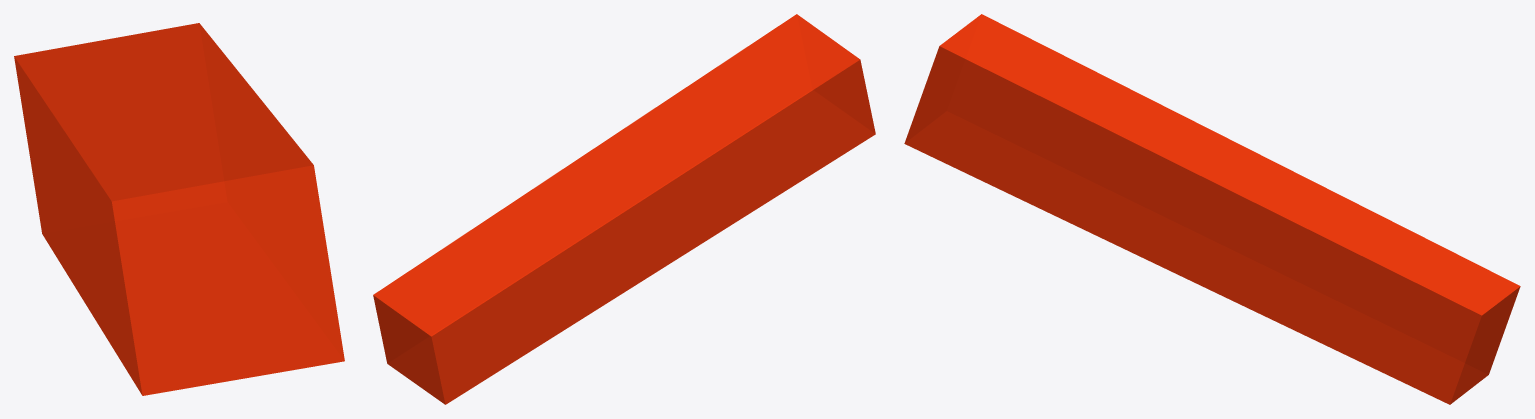
The model's file is Event_421115418_EBrechit_2.fbx.
3 views of the same model, side by side, from view 1: azimuth 30°, elevation 25°; view 2: azimuth 150°, elevation 25°; view 3: azimuth 270°, elevation 25° (orthographic). The views are drawn at different scales.
Parts seen in each view (by area): view 1: Model; view 2: Model; view 3: Model.
Boxes of the visible parts, x1=… form: Model: x1=14, y1=23, x2=344, y2=395; Model: x1=373, y1=14, x2=875, y2=404; Model: x1=904, y1=14, x2=1520, y2=404.
Bounding box in the file's own units: 0.1861 × 0.16 × 0.3315.
